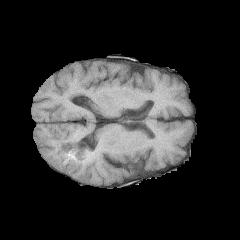glioma: (56, 140, 93, 176)
